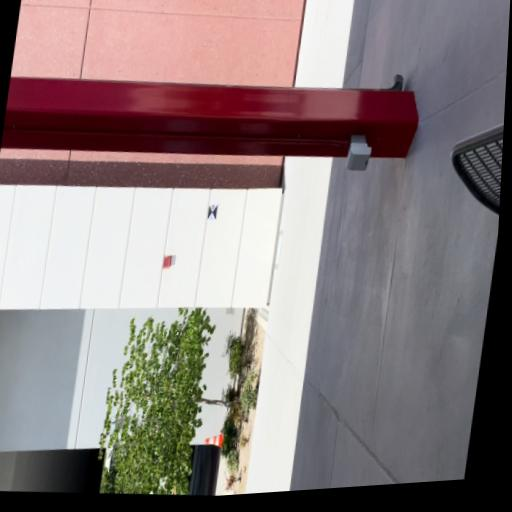target9: (207, 203, 218, 220)
